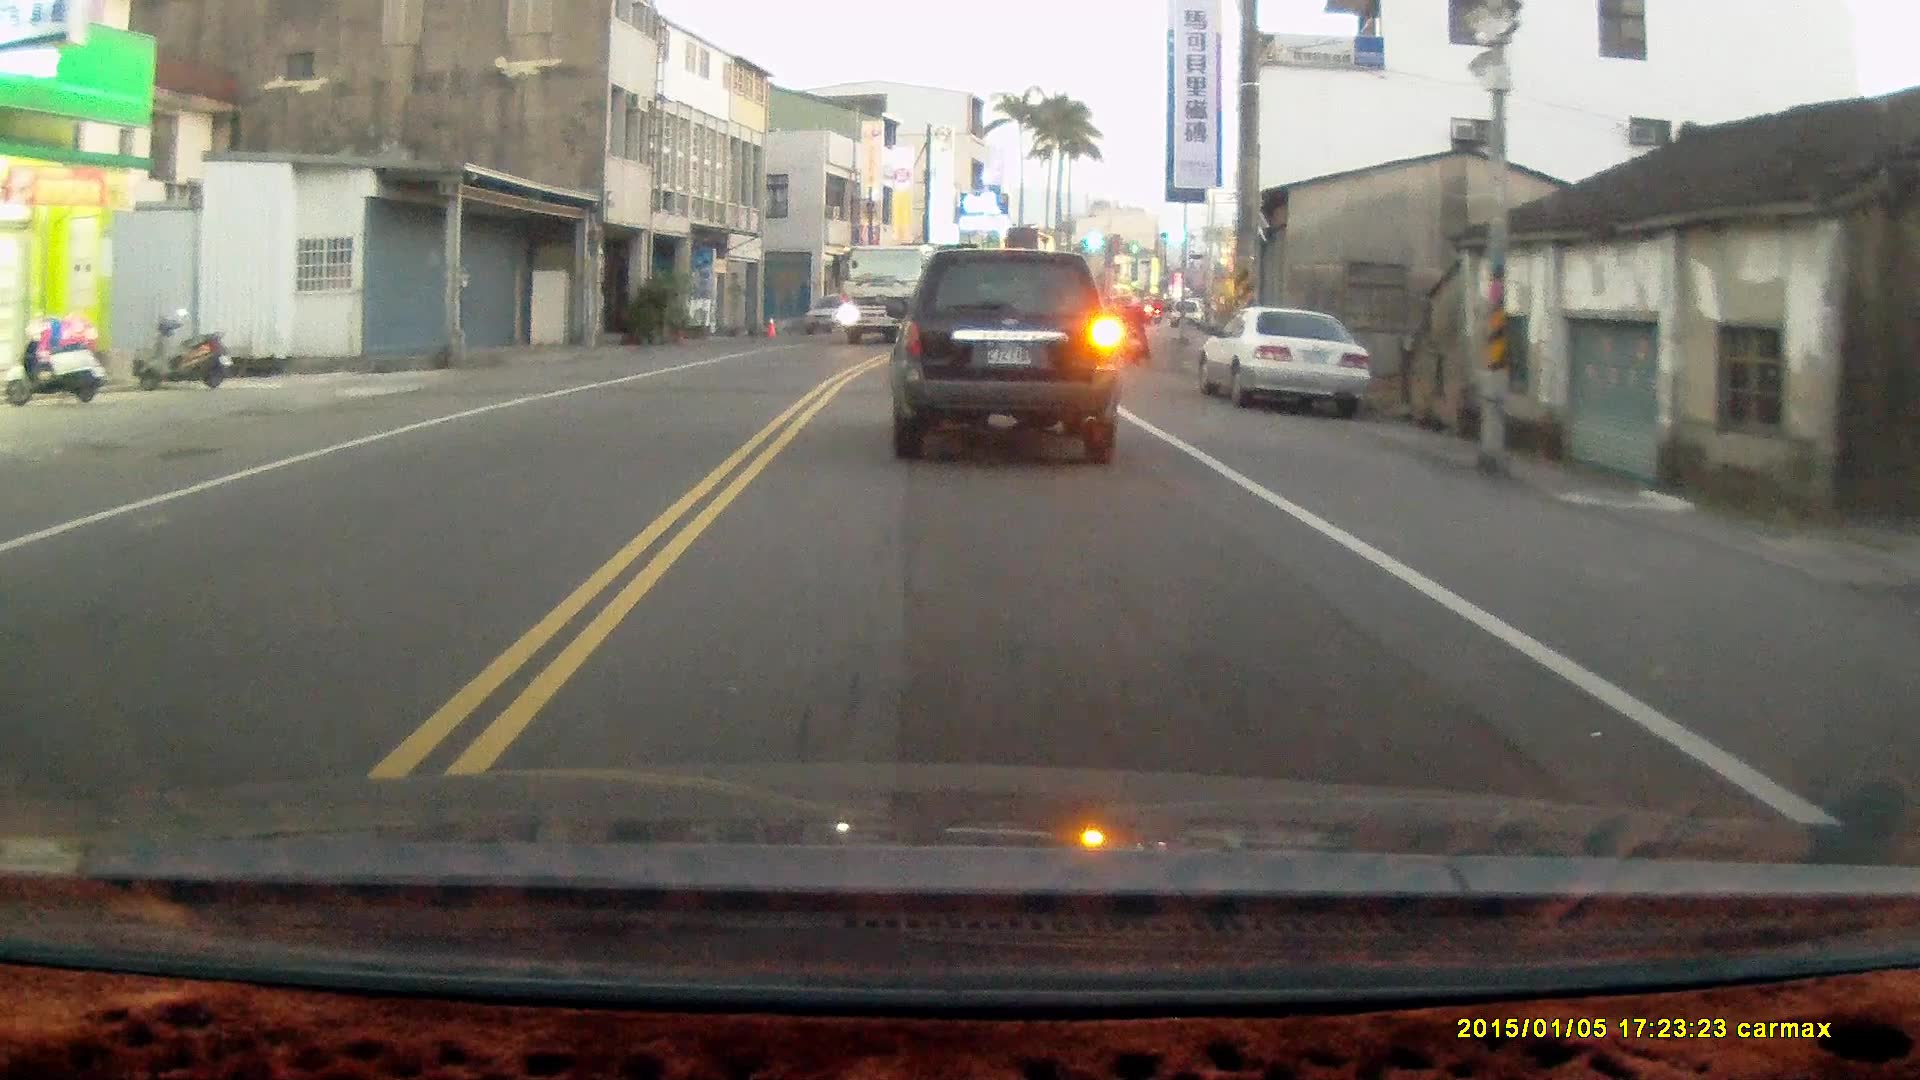rider: (1118, 292, 1150, 365)
vehicle: (890, 249, 1131, 460), (1200, 309, 1375, 425), (829, 240, 936, 343), (800, 290, 873, 339)
